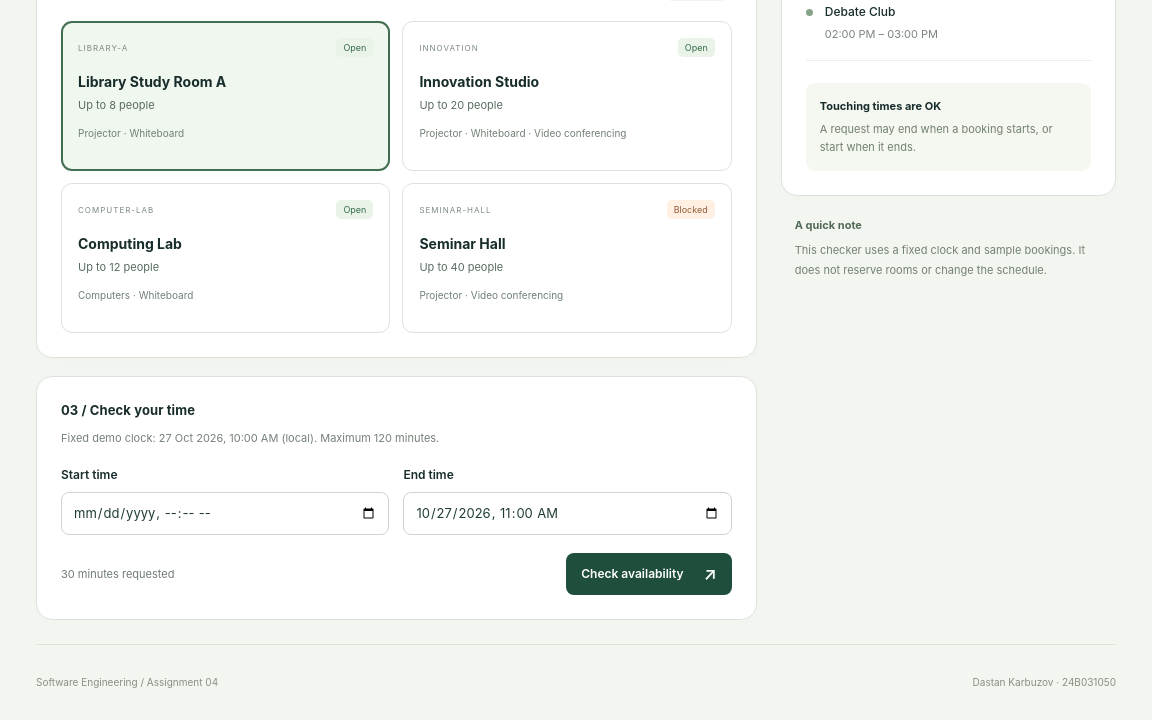
Test: mounted React integration: actual controls, state, result and schedule › AC1 missing datetime gets clear feedback
(page scrolled)
Clear the field labelled "Start time" at (225, 514), box x1=61 y1=492 x2=389 y2=535
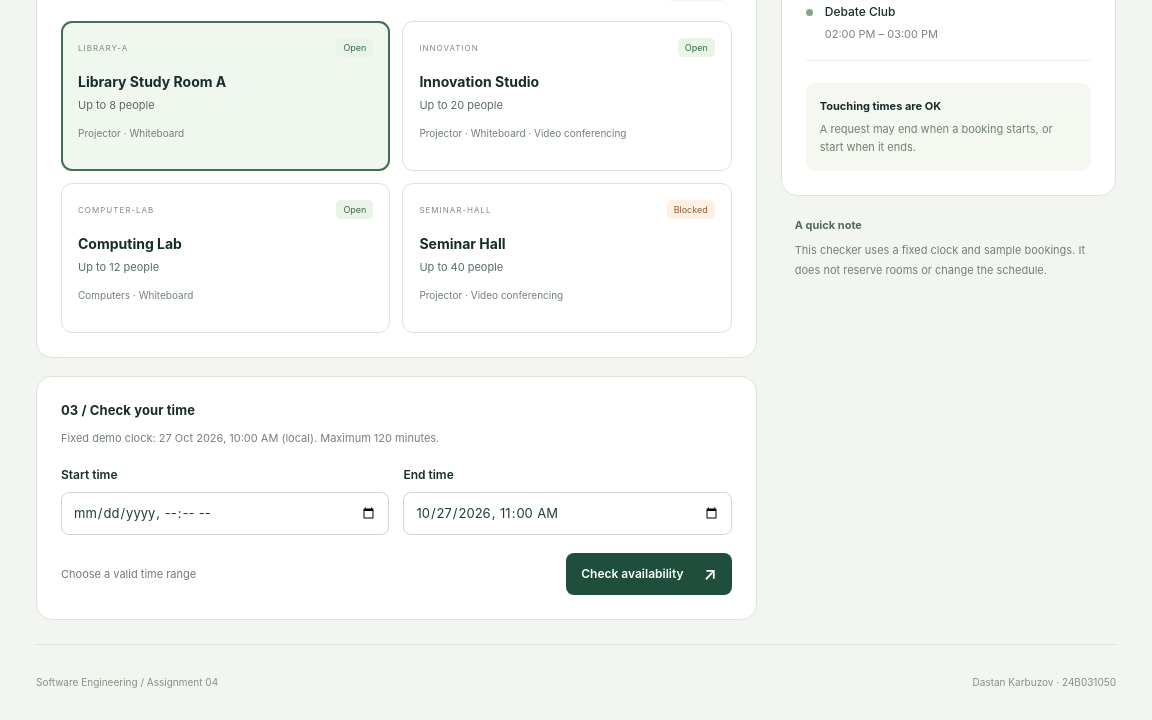
Click the button "Check availability ↗" at (649, 574), box x1=566 y1=553 x2=732 y2=595
(page scrolled)
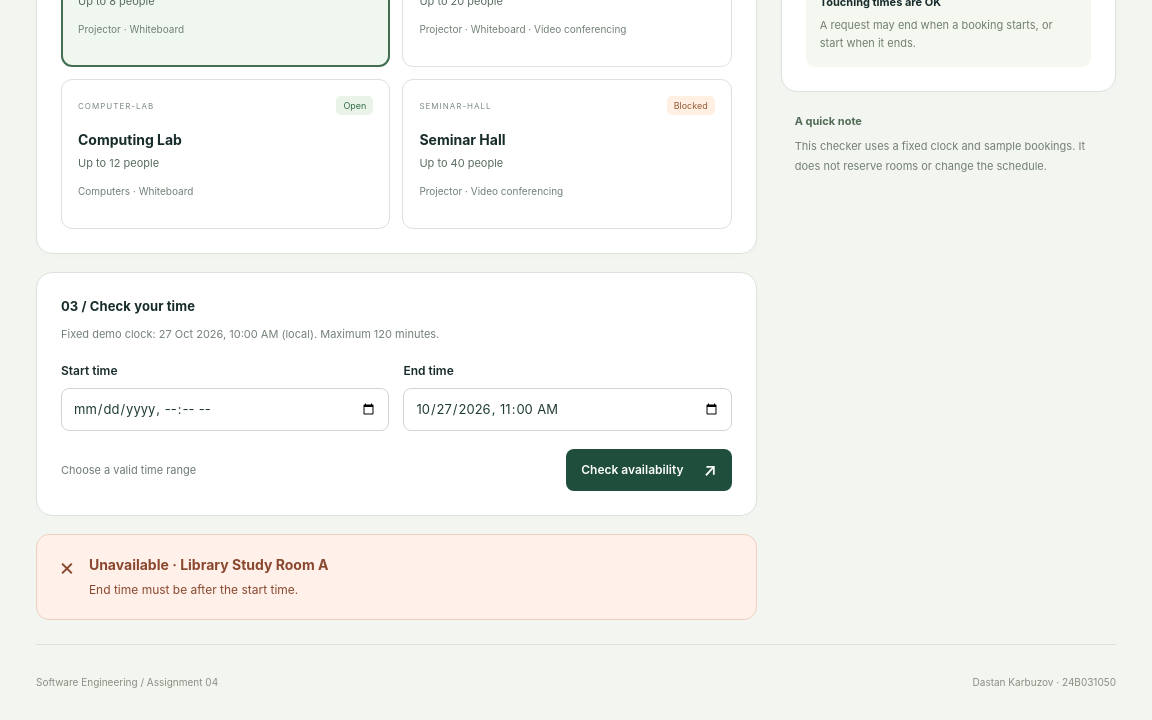
Result: the message with class "result" shows "End time must be after" at x1=89 y1=582 x2=298 y2=597
